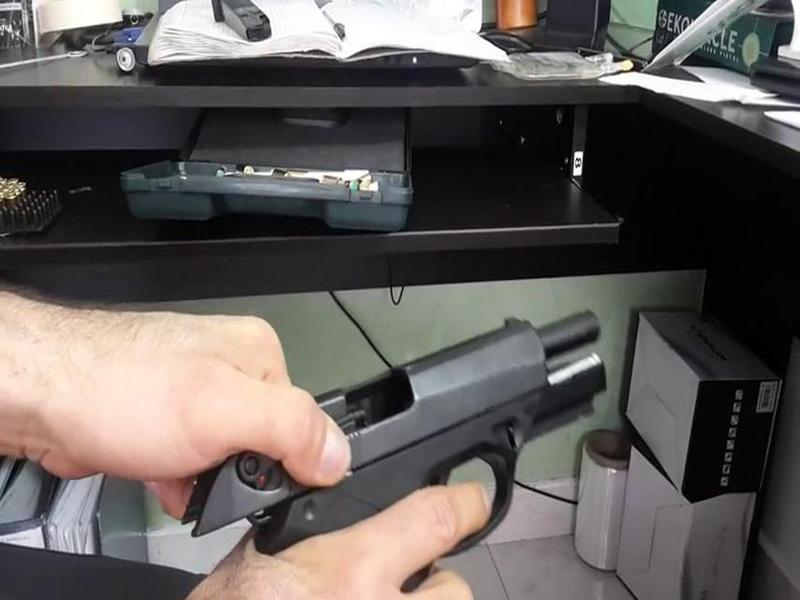Pistola: (189, 298, 620, 572)
